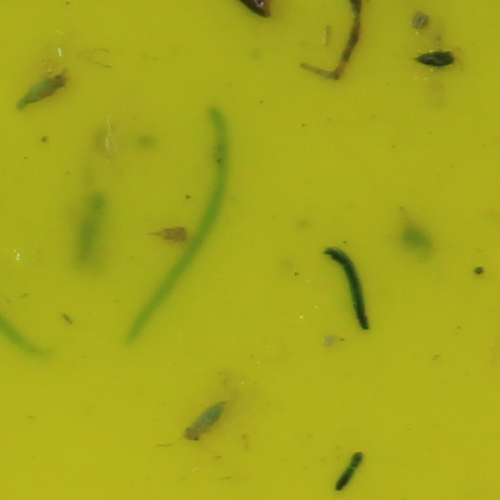Glycaspis: (15, 71, 68, 106), (184, 399, 229, 440)
